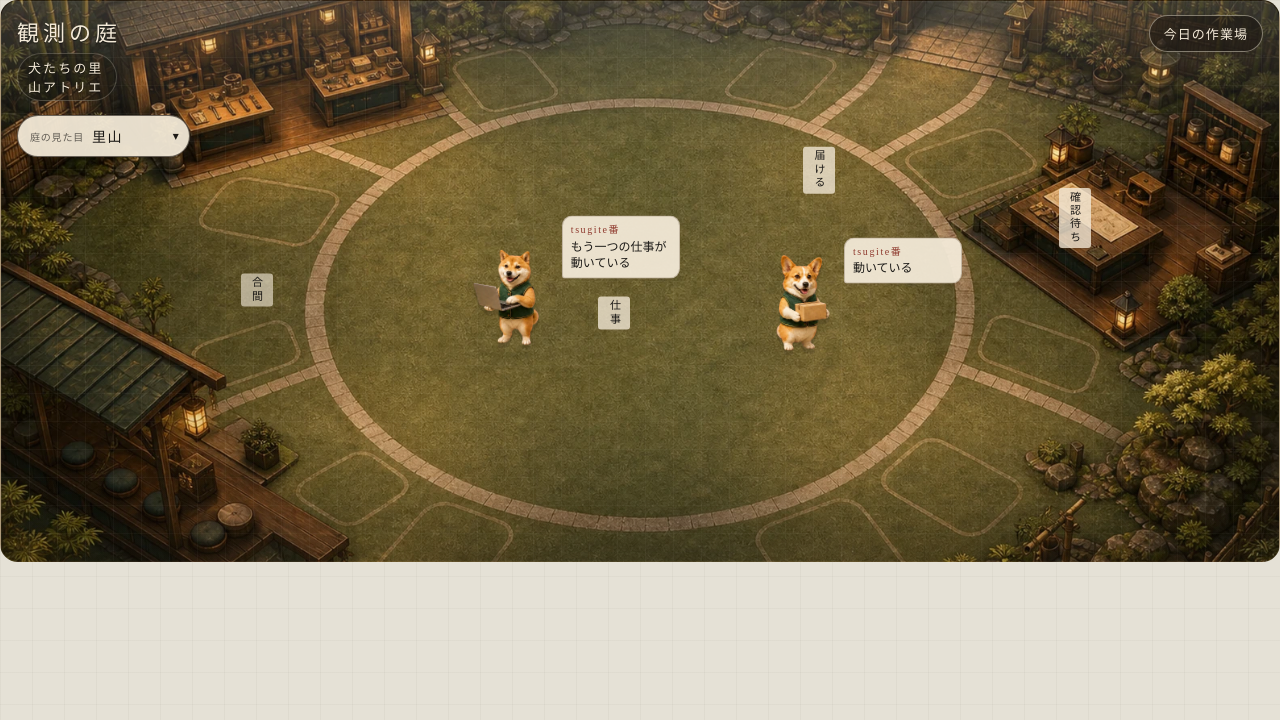
it: ObserverGarden › keeps live Grok and Codex ahead of leftover confirmation and inferred git overlap
The width and height of the screenshot is (1280, 720).
Expected: the text "動いている" is shown, [853,261,912,275]
Click the 7th button at (786, 302), box [726,242,846,362]
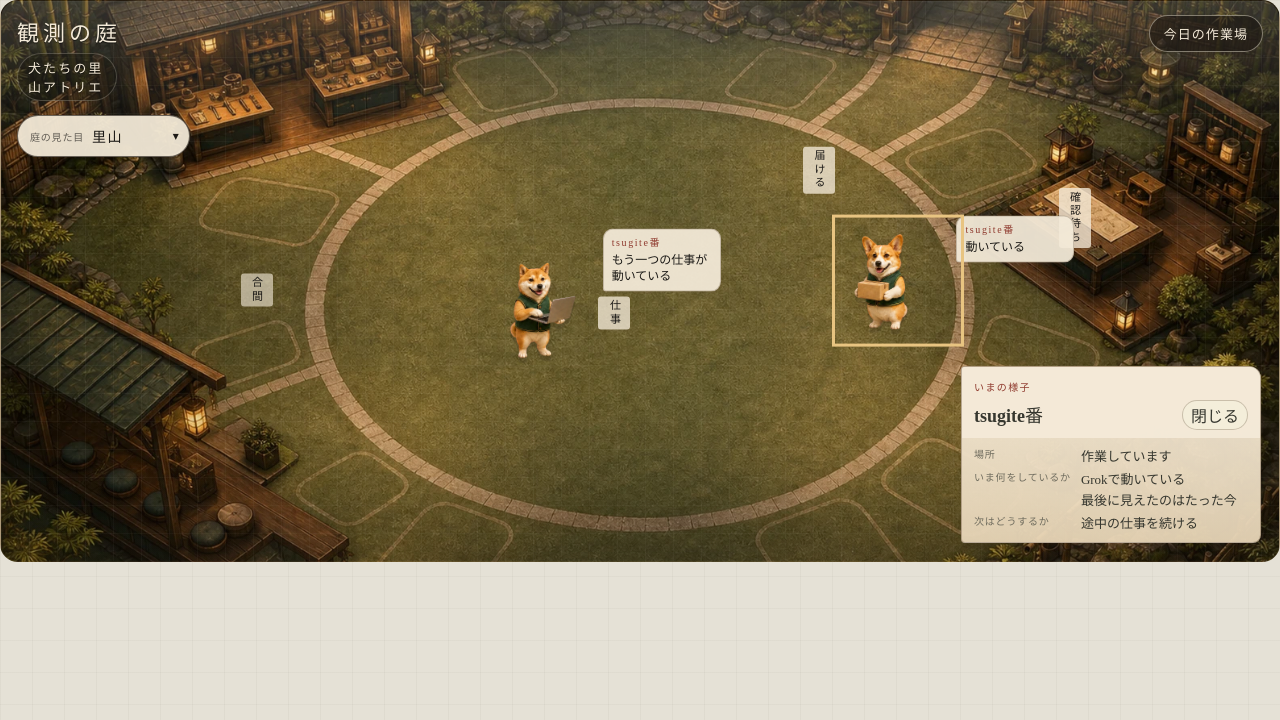
Expected: the element with test id "garden-inspect" does not show "Grok Build", [961,366,1261,543]
Result: the element with test id "garden-inspect" shows "動いている" at [1081,472,1185,487]
